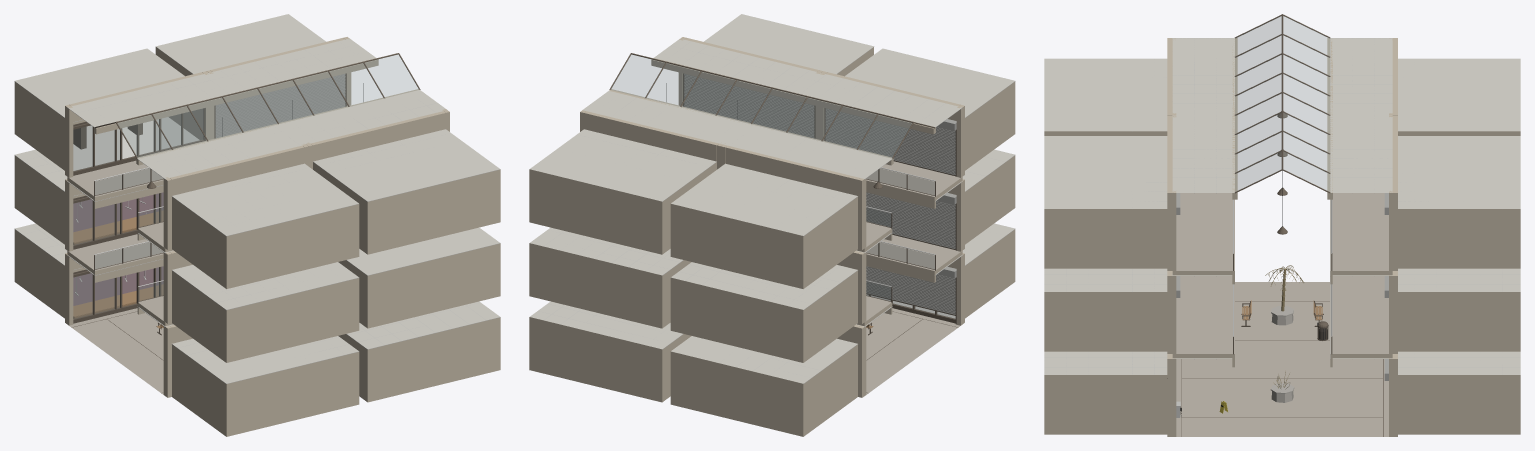
File: concourse_a.glb
The picture shows the model from 3 angles, left to right: view 1: azimuth 30°, elevation 25°; view 2: azimuth 150°, elevation 25°; view 3: azimuth 270°, elevation 25°; orthographic projection. The views are drawn at different scales.
Visible parts, largest first — view 1: concourse_a; view 2: concourse_a; view 3: concourse_a.
Boxes of the visible parts, x1,y1,x2,y2 form: concourse_a: [14, 14, 500, 436]; concourse_a: [529, 14, 1015, 436]; concourse_a: [1044, 14, 1520, 436].
Size of what is drawn, in the model's own units: 20.07 by 16.15 by 26.01.
